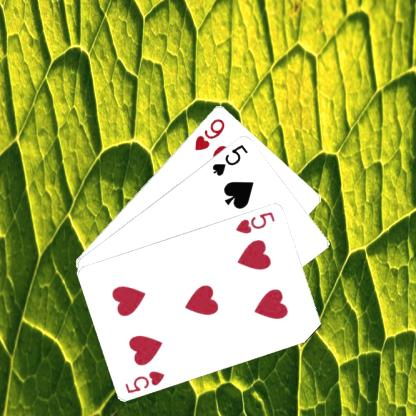5H: (233, 209, 277, 235), (122, 368, 166, 394)
5S: (209, 142, 249, 178)
9H: (192, 115, 226, 152)
